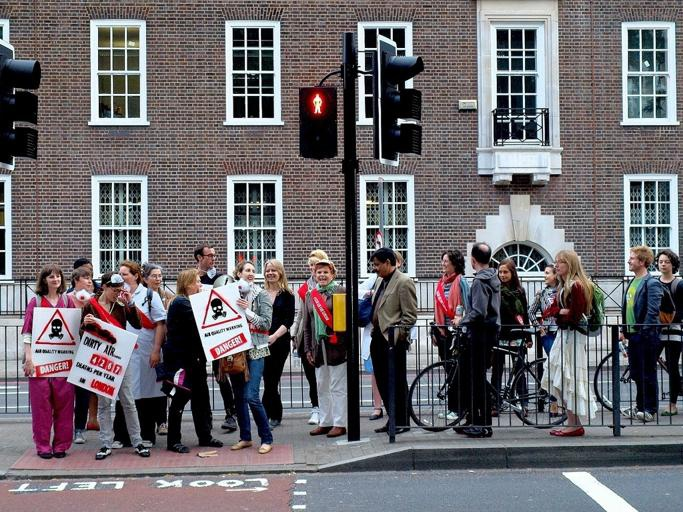non-vehicle: (402, 314, 571, 433), (592, 322, 680, 421)
